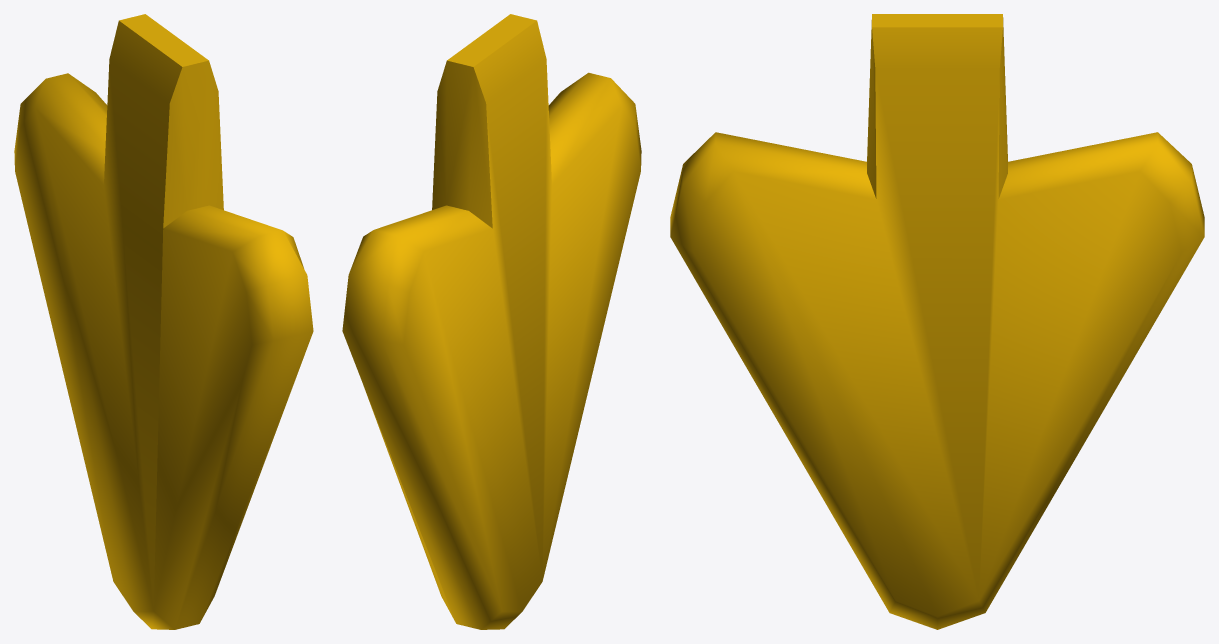
Rendered from Arrow.fbx.
3 renders of one model, left to right at view 1: azimuth 30°, elevation 25°; view 2: azimuth 150°, elevation 25°; view 3: azimuth 270°, elevation 25°, orthographic. The views are drawn at different scales.
Visible parts, largest first — view 1: Cube; view 2: Cube; view 3: Cube.
Boxes of the visible parts, x1,y1,x2,y2 form: Cube: (14,14,313,629); Cube: (342,14,641,629); Cube: (670,14,1204,629).
Bounding box in the file's own units: 182 × 24.61 × 226.
